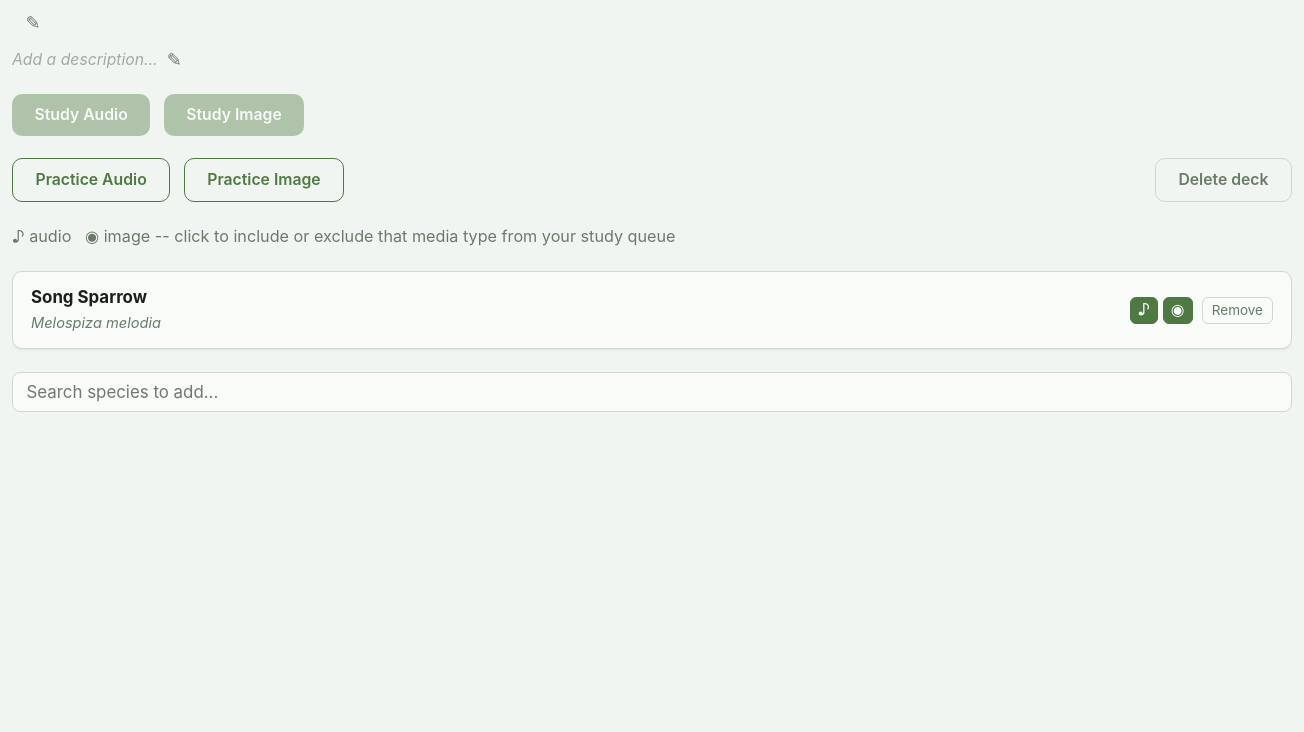
Scenario: Deck detail page › shows bulk add bar when search results are checked
Step 1. Type "fox" into the field with placeholder "Search species to add..." → (652, 392), box [12,372,1292,412]
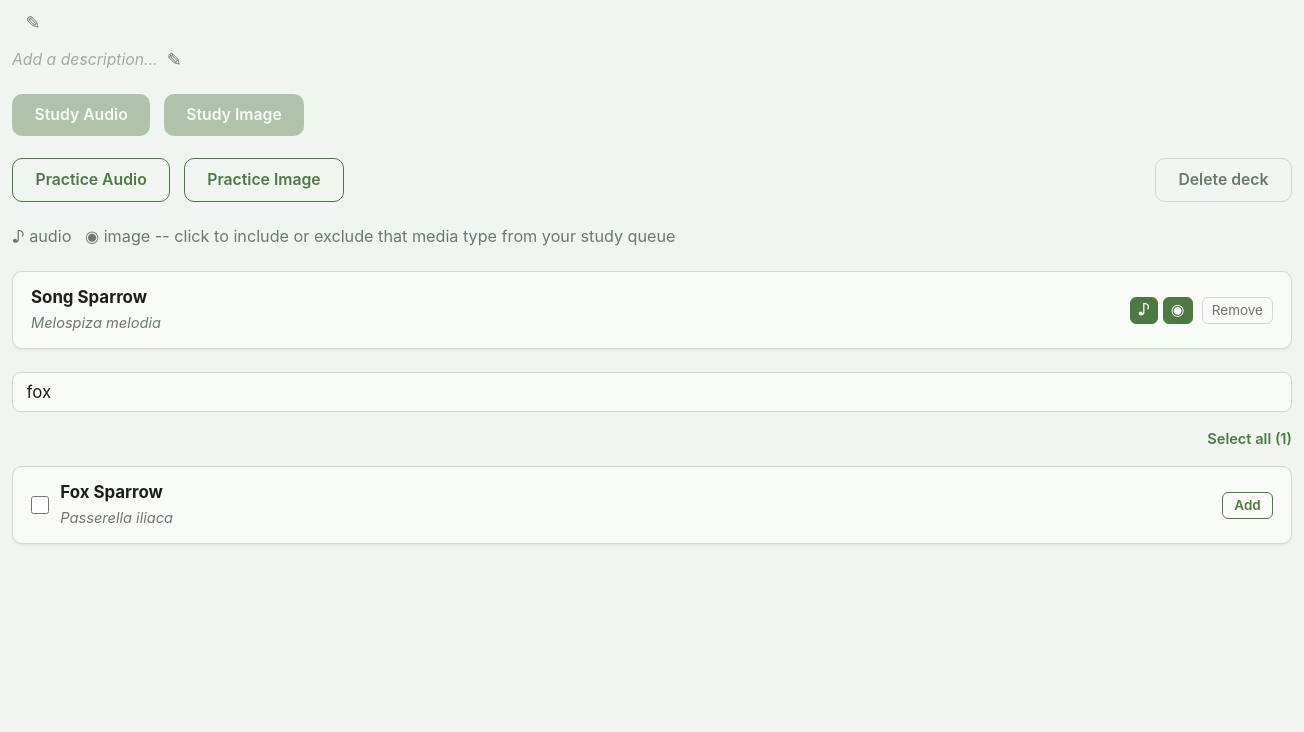
Expected: the checkbox named "fox sparrow" is shown
Step 2. Click the checkbox named "fox sparrow" → (40, 505), box [31,496,49,514]
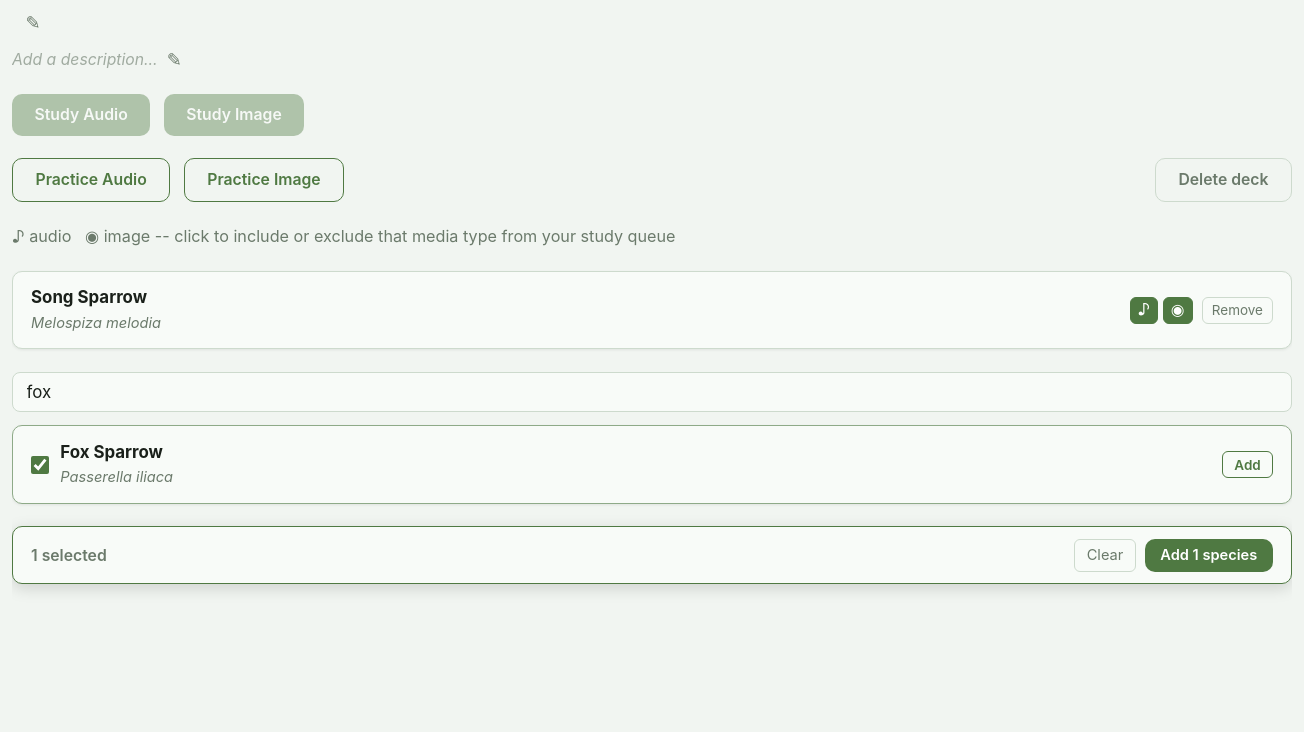
Expected: the element showing "1 selected Clear Add 1 species" is shown, [12,526,1292,584]
Expected: the text "1 selected" is shown, [31,544,107,567]
